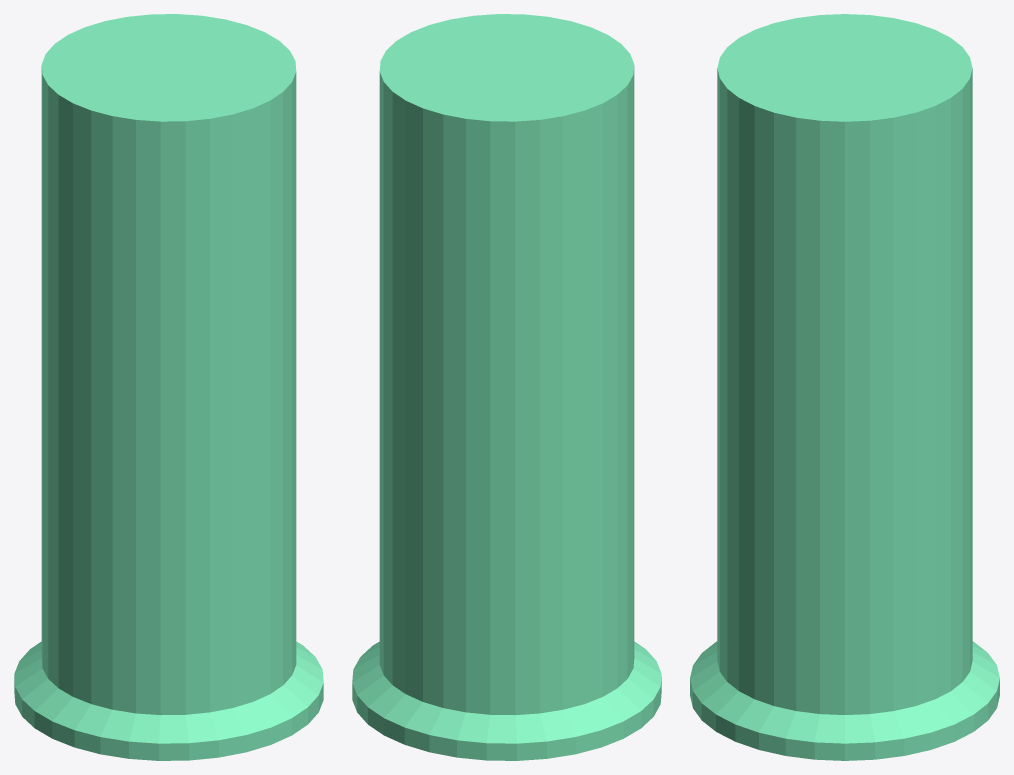
The model's file is goal.fbx.
The picture shows the model from 3 angles, left to right: view 1: azimuth 30°, elevation 25°; view 2: azimuth 150°, elevation 25°; view 3: azimuth 270°, elevation 25°; orthographic projection.
Visible parts, largest first — view 1: 円柱; view 2: 円柱; view 3: 円柱.
Part boxes in pixels (<box>): 円柱: <box>14,14,323,760</box>; 円柱: <box>352,14,661,760</box>; 円柱: <box>690,14,999,760</box>.
Bounding box in the file's own units: 243 × 543 × 243.
